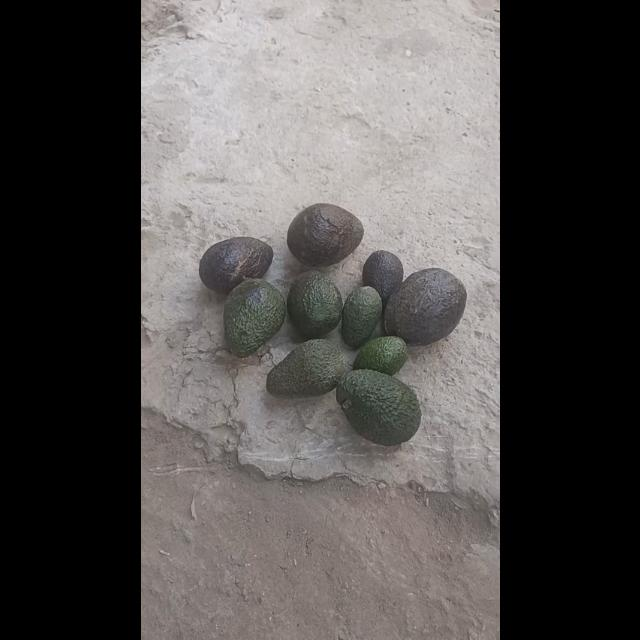Primera: (384, 267, 466, 345), (336, 368, 420, 444), (221, 278, 285, 356), (285, 202, 363, 266), (196, 236, 272, 294)
Segunda: (266, 338, 346, 396), (286, 270, 342, 338)
Tercera: (341, 286, 382, 348), (361, 248, 404, 306), (351, 336, 407, 376)
